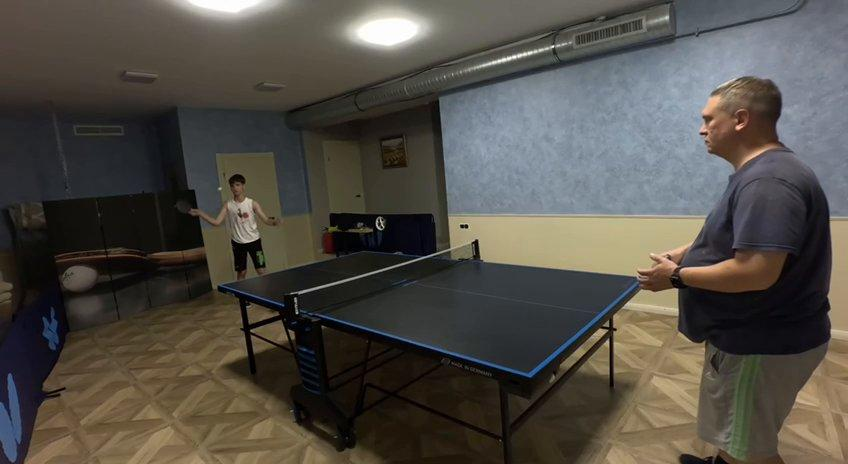Ball: (217, 186, 223, 191)
Net: (285, 240, 482, 317)
Player1: (200, 174, 268, 274)
Player2: (638, 78, 831, 463)
Table: (219, 252, 638, 376)
